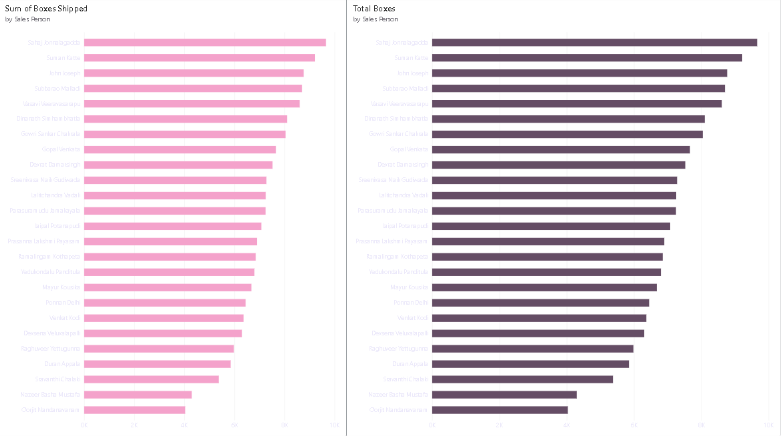

This screenshot's page, from the dashboard's own definition file:
{"tool":"powerbi","page":{"name":"Page 2","canvas":[1920,1080],"ordinal":1},"visuals":[{"type":"barChart","fields":{"Category":["data.Sales Person"],"Y":["Sum(data.Boxes Shipped)"]},"box":[10,0,850,1080],"z":0},{"type":"barChart","fields":{"Category":["data.Sales Person"],"Y":["data.Total Boxes"]},"box":[860,0,1060,1080],"z":1000}]}

Visuals, with their boxes in screenshot pixels (x1, y1, x2, y2), scaled from the page's 1920x1080 canvas onto the 781x436 screenshot:
barChart - data.Sales Person x Sum(data.Boxes Shipped): 4 0 350 435
barChart - data.Sales Person x data.Total Boxes: 350 0 780 435
